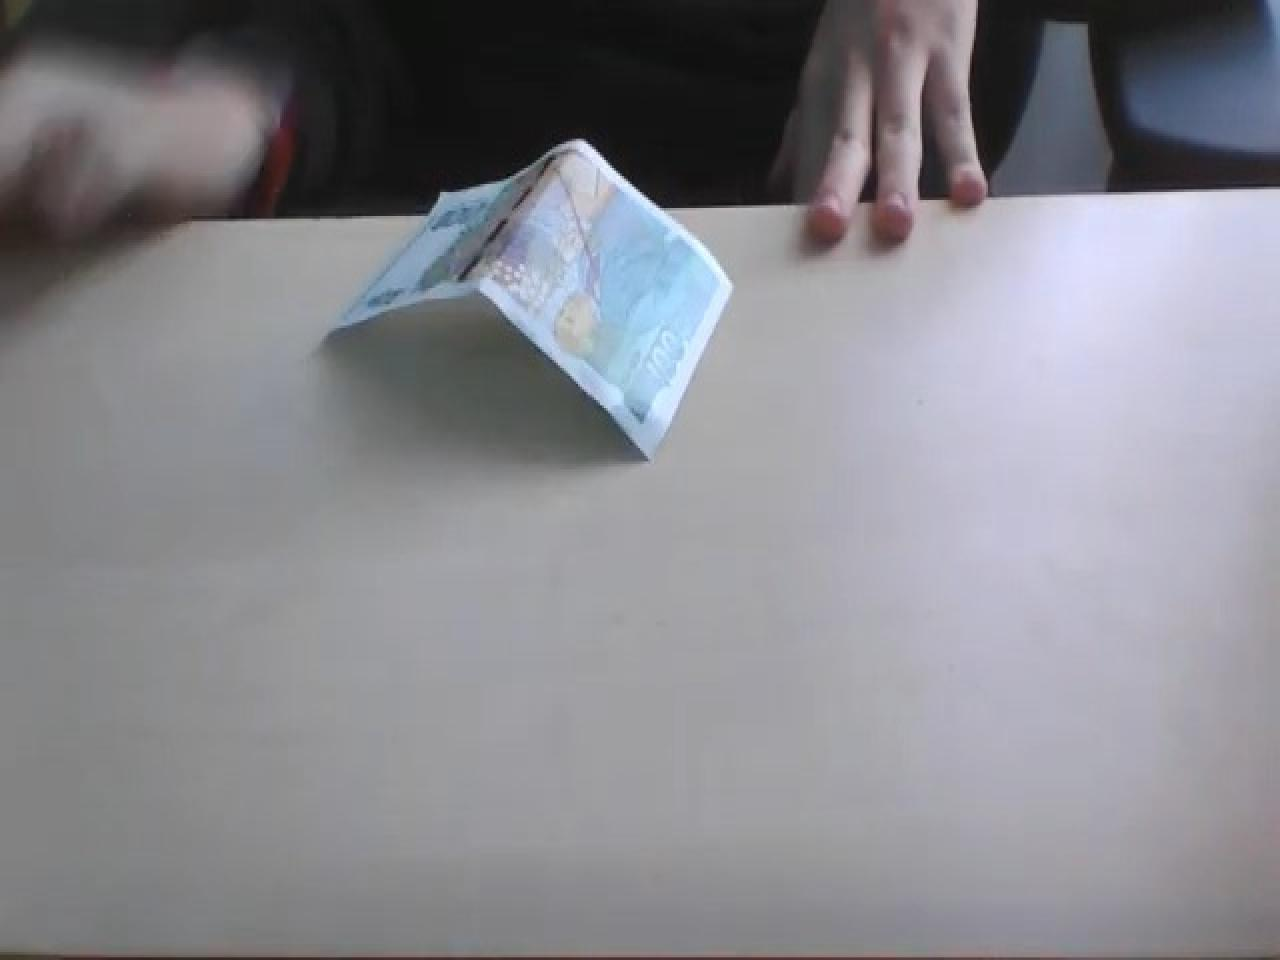100leva: (324, 133, 736, 462)
